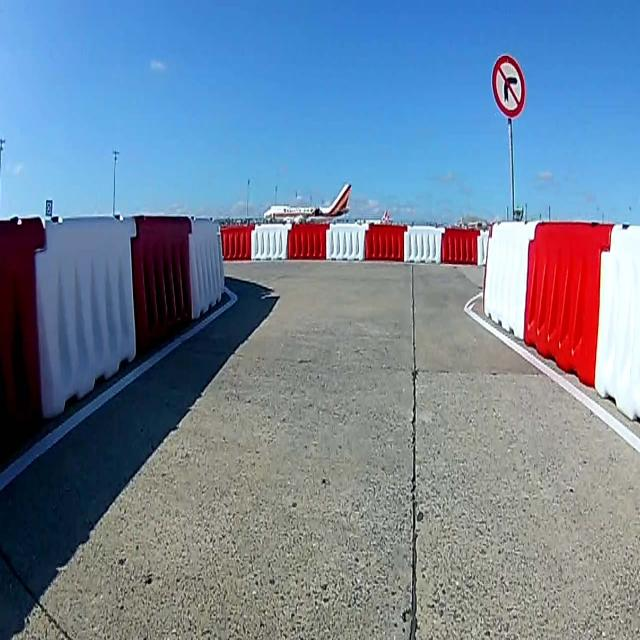sagadonulmez: (491, 54, 525, 118)
